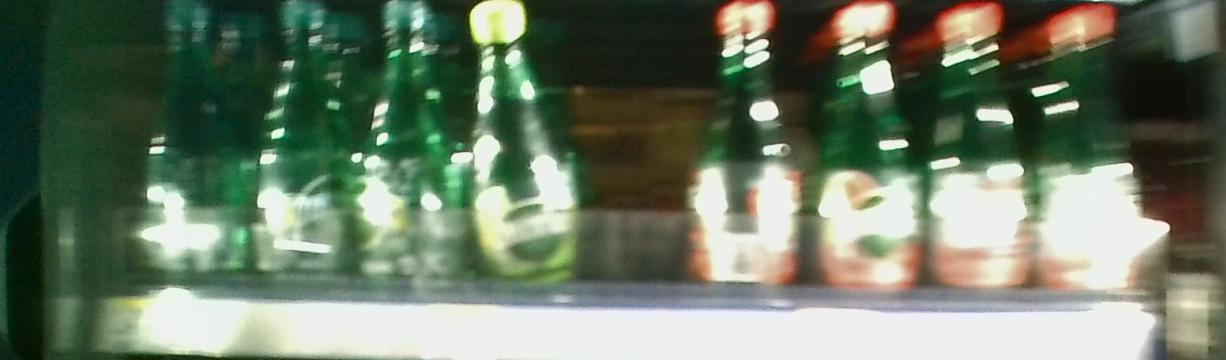bottle: (462, 1, 586, 292), (692, 5, 802, 285), (1037, 5, 1141, 297), (817, 7, 922, 290), (932, 7, 1027, 294), (150, 2, 247, 282), (355, 2, 450, 286), (255, 7, 347, 286)
